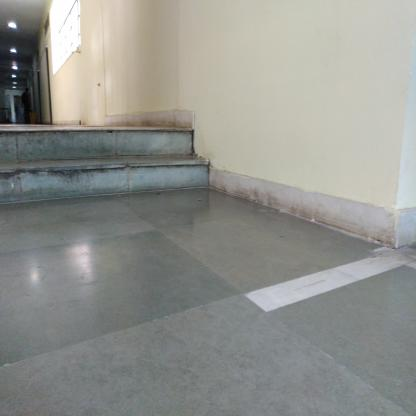stairs: (1, 125, 195, 200)
